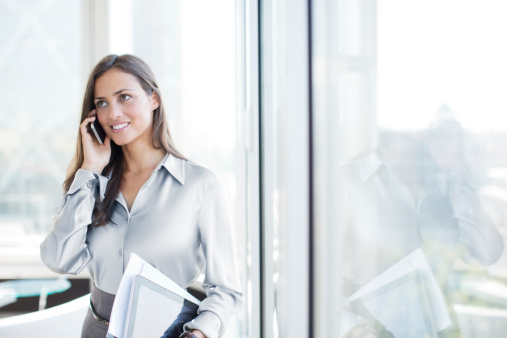em pe: (27, 36, 263, 338)
